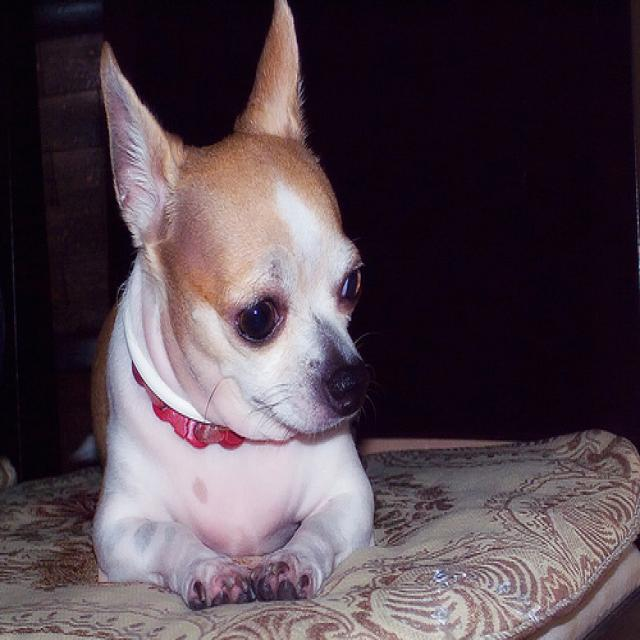dog-chihuahua: (61, 2, 387, 618)
